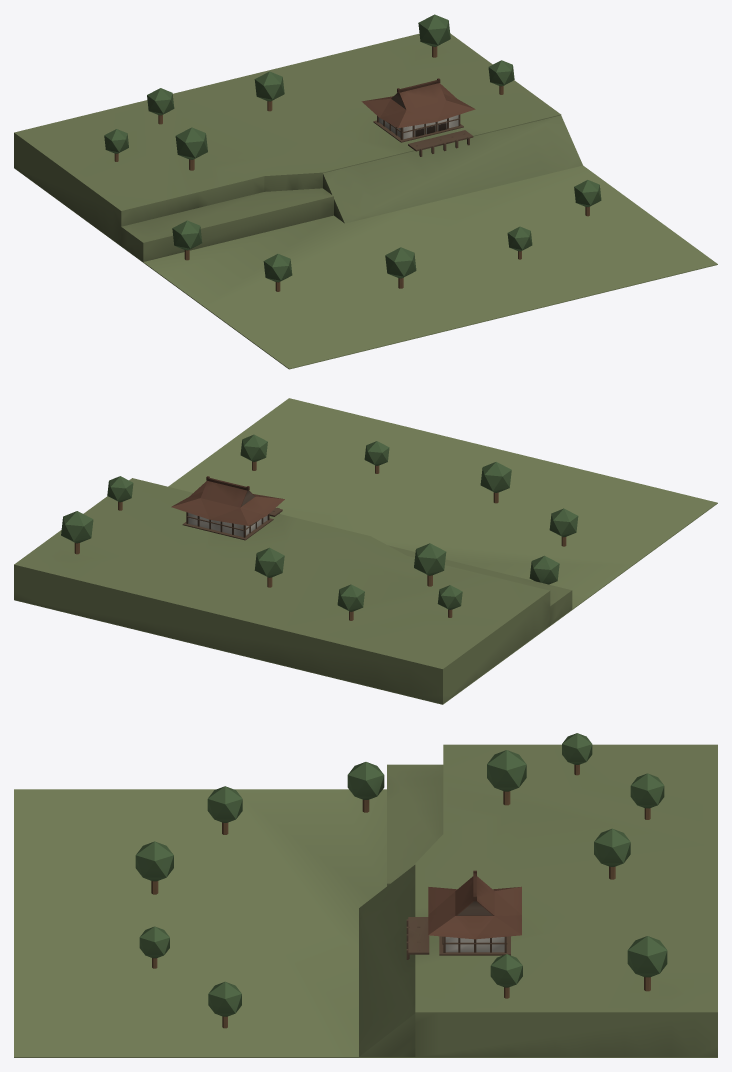
The model's file is kiyomizu-800.glb.
The picture shows the model from 3 angles, top to bottom: view 1: azimuth 30°, elevation 25°; view 2: azimuth 150°, elevation 25°; view 3: azimuth 270°, elevation 25°; orthographic projection. The views are drawn at different scales.
Parts seen in each view (by area): view 1: p0_grounds, p2_roofs, p1_halls; view 2: p0_grounds, p2_roofs, p1_halls; view 3: p0_grounds, p2_roofs, p1_halls.
Part boxes in pixels (<box>): p0_grounds: <box>14,33,717,369</box>; p2_roofs: <box>104,14,601,291</box>; p1_halls: <box>373,114,473,156</box>; p0_grounds: <box>14,398,717,704</box>; p2_roofs: <box>61,434,578,620</box>; p1_halls: <box>182,507,282,540</box>; p0_grounds: <box>14,744,717,1057</box>; p2_roofs: <box>135,733,667,1028</box>; p1_halls: <box>406,917,510,959</box>.
Bounding box in the file's own units: 180 × 31.32 × 200.
